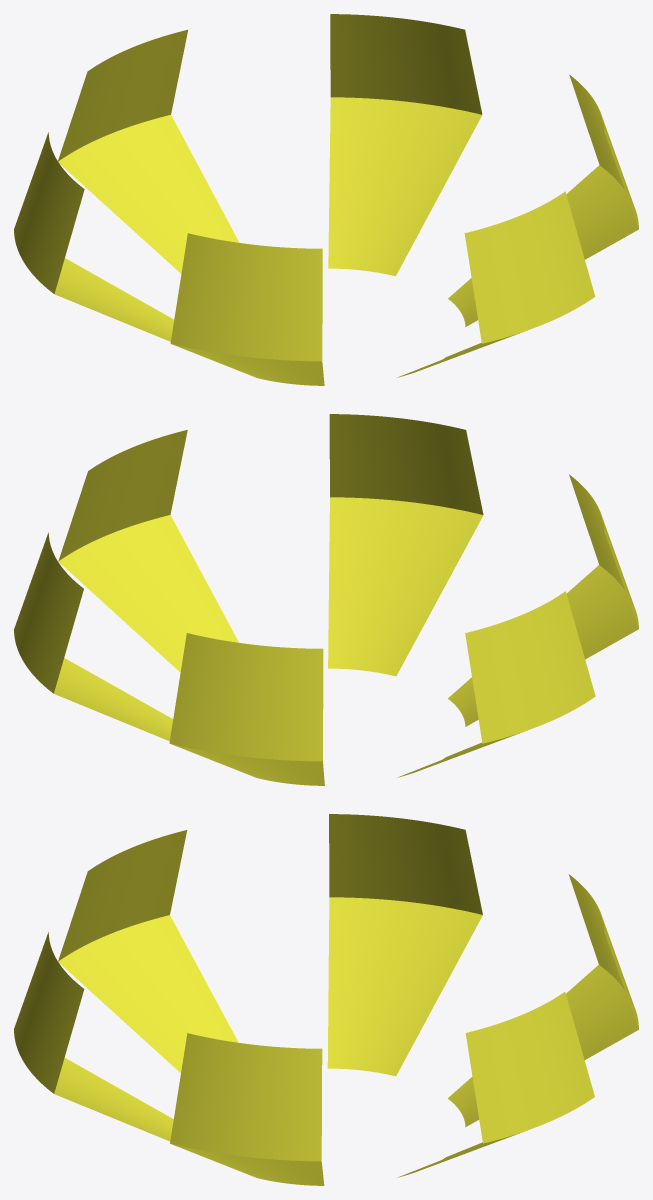
Rendered from oyamarker.fbx.
3 renders of one model, top to bottom at view 1: azimuth 30°, elevation 25°; view 2: azimuth 150°, elevation 25°; view 3: azimuth 270°, elevation 25°, orthographic.
Visible parts, largest first — view 1: Crown Thing; view 2: Crown Thing; view 3: Crown Thing.
Boxes of the visible parts, x1,y1,x2,y2 form: Crown Thing: [14, 14, 638, 385]; Crown Thing: [14, 414, 638, 785]; Crown Thing: [14, 814, 638, 1185].
Size of the model in its own units: 2.7 by 0.9333 by 2.7.
